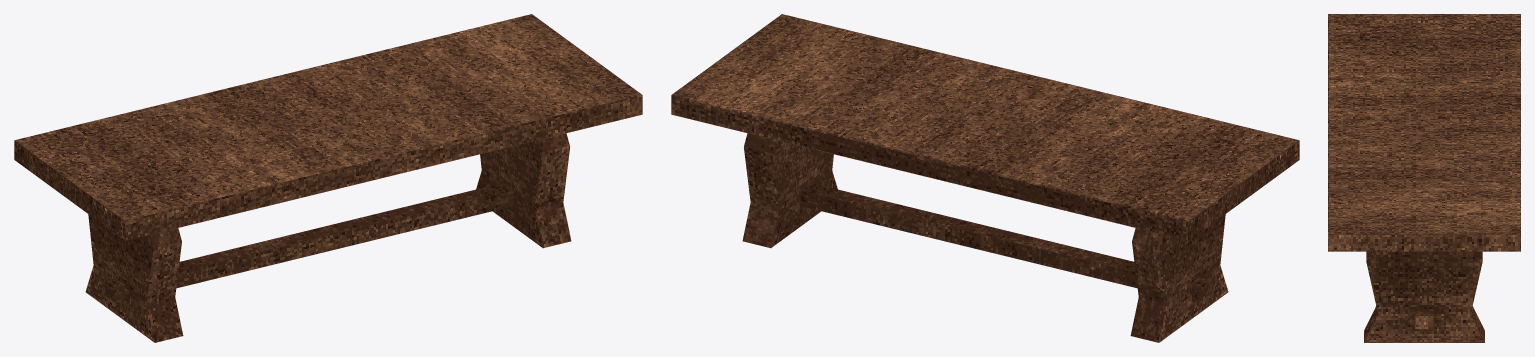
Rendered from Table_3.gltf.
3 views of the same model, side by side, from view 1: azimuth 30°, elevation 25°; view 2: azimuth 150°, elevation 25°; view 3: azimuth 270°, elevation 25° (orthographic). The views are drawn at different scales.
Visible parts, largest first — view 1: Table_3; view 2: Table_3; view 3: Table_3.
Boxes of the visible parts, x1,y1,x2,y2 form: Table_3: (14, 14, 642, 342); Table_3: (671, 14, 1299, 342); Table_3: (1328, 14, 1520, 342).
Bounding box in the file's own units: 7.52 × 2.07 × 2.78.
Materials: 1 (1 with a texture image).
